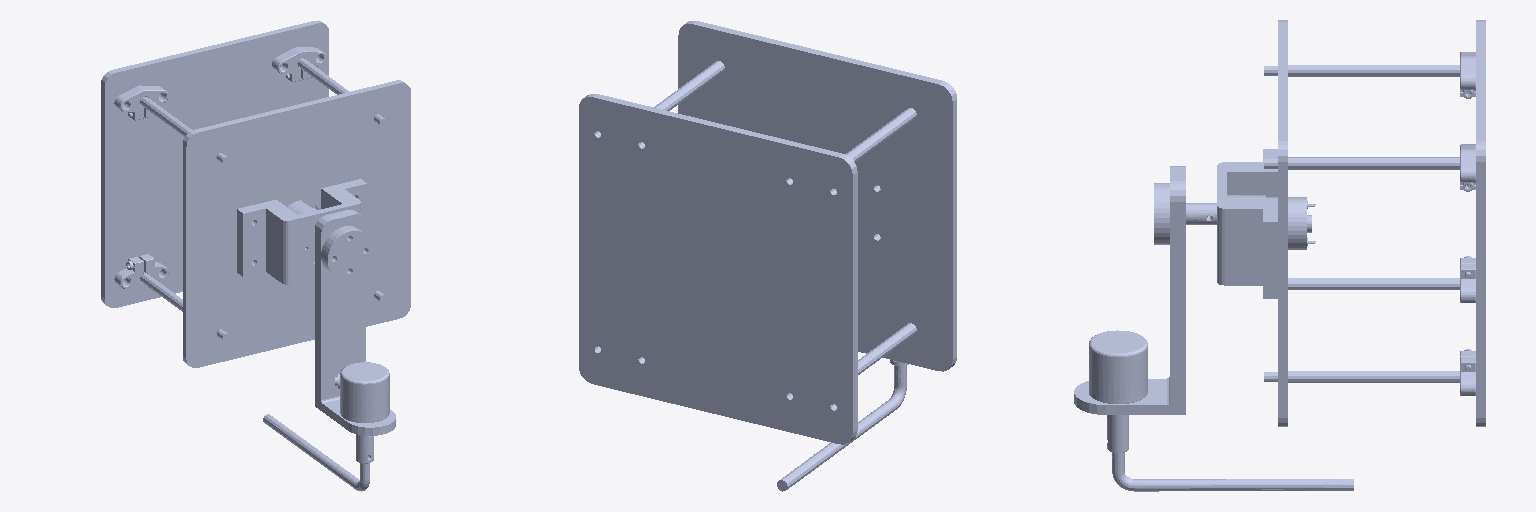
URDF robot description (rotary_pendulum_urdf):
<?xml version="1.0" encoding="utf-8"?>
<!-- This URDF was automatically created by SolidWorks to URDF Exporter! Originally created by Stephen Brawner (brawner@gmail.com) 
     Commit Version: 1.6.0-4-g7f85cfe  Build Version: 1.6.7995.38578
     For more information, please see http://wiki.ros.org/sw_urdf_exporter -->
<robot
  name="rotary_pendulum_urdf">
  <link
    name="base">
    <inertial>
      <origin
        xyz="0.099999 0.10003 0.081837"
        rpy="0 0 0" />
      <mass
        value="0.66722" />
      <inertia
        ixx="0.0016651"
        ixy="-2.4036E-10"
        ixz="5.3762E-09"
        iyy="0.0017362"
        iyz="-4.5105E-08"
        izz="0.0032867" />
    </inertial>
    <visual>
      <origin
        xyz="0 0 0"
        rpy="0 0 0" />
      <geometry>
        <mesh
          filename="package://rotary_pendulum_urdf/meshes/base.STL" />
      </geometry>
      <material
        name="">
        <color
          rgba="0.79216 0.81961 0.93333 1" />
      </material>
    </visual>
    <collision>
      <origin
        xyz="0 0 0"
        rpy="0 0 0" />
      <geometry>
        <mesh
          filename="package://rotary_pendulum_urdf/meshes/base.STL" />
      </geometry>
    </collision>
  </link>
  <link
    name="arm_link_1">
    <inertial>
      <origin
        xyz="-0.067733 0.026558 -0.031202"
        rpy="0 0 0" />
      <mass
        value="0.12703" />
      <inertia
        ixx="6.4611E-05"
        ixy="2.3084E-05"
        ixz="-6.4785E-05"
        iyy="0.00020041"
        iyz="1.0623E-05"
        izz="0.0001756" />
    </inertial>
    <visual>
      <origin
        xyz="0 0 0"
        rpy="0 0 0" />
      <geometry>
        <mesh
          filename="package://rotary_pendulum_urdf/meshes/arm_link_1.STL" />
      </geometry>
      <material
        name="">
        <color
          rgba="0.79216 0.81961 0.93333 1" />
      </material>
    </visual>
    <collision>
      <origin
        xyz="0 0 0"
        rpy="0 0 0" />
      <geometry>
        <mesh
          filename="package://rotary_pendulum_urdf/meshes/arm_link_1.STL" />
      </geometry>
    </collision>
  </link>
  <joint
    name="armm_joint_1"
    type="revolute">
    <origin
      xyz="0.1 -0.1859 0.107"
      rpy="0 -1.1389 3.1416" />
    <parent
      link="base" />
    <child
      link="arm_link_1" />
    <axis
      xyz="0 1 0" />
    <limit
      lower="-3.14"
      upper="3.14"
      effort="0.5"
      velocity="10" />
  </joint>
  <link
    name="pendulum_link_2">
    <inertial>
      <origin
        xyz="-0.050399 -5.9219E-06 0.042374"
        rpy="0 0 0" />
      <mass
        value="0.012679" />
      <inertia
        ixx="2.196E-05"
        ixy="-4.5223E-10"
        ixz="3.2939E-06"
        iyy="2.3265E-05"
        iyz="2.9366E-09"
        izz="1.4851E-06" />
    </inertial>
    <visual>
      <origin
        xyz="0 0 0"
        rpy="0 0 0" />
      <geometry>
        <mesh
          filename="package://rotary_pendulum_urdf/meshes/pendulum_link_2.STL" />
      </geometry>
      <material
        name="">
        <color
          rgba="0.79216 0.81961 0.93333 1" />
      </material>
    </visual>
    <collision>
      <origin
        xyz="0 0 0"
        rpy="0 0 0" />
      <geometry>
        <mesh
          filename="package://rotary_pendulum_urdf/meshes/pendulum_link_2.STL" />
      </geometry>
    </collision>
  </link>
  <joint
    name="pendulum_joint_2"
    type="revolute">
    <origin
      xyz="-0.1163 0.048 -0.053513"
      rpy="1.5517 -0.43086 0.049838" />
    <parent
      link="arm_link_1" />
    <child
      link="pendulum_link_2" />
    <axis
      xyz="0.99898 0 0.045265" />
    <limit
      lower="-3.14"
      upper="3.14"
      effort="0"
      velocity="20" />
  </joint>
</robot>

--- What the picture shows (computed from the rendered views, not written in the file) ---
The picture shows the robot from 3 angles, left to right: view 1: azimuth 30°, elevation 25°; view 2: azimuth 150°, elevation 25°; view 3: azimuth 270°, elevation 25°; orthographic projection.
Robot: rotary_pendulum_urdf — 3 links, 2 joints (2 revolute); root link base; default pose: all joints at 0.
Visible links, largest first — view 1: base, arm_link_1, pendulum_link_2; view 2: base, pendulum_link_2; view 3: base, arm_link_1, pendulum_link_2.
Link boxes in pixels (left/top/right/bottom): base: left=101, top=20, right=410, bottom=367; arm_link_1: left=315, top=210, right=395, bottom=435; pendulum_link_2: left=263, top=414, right=373, bottom=491; base: left=579, top=21, right=956, bottom=444; pendulum_link_2: left=777, top=360, right=908, bottom=491; base: left=1186, top=20, right=1485, bottom=426; arm_link_1: left=1074, top=166, right=1185, bottom=414; pendulum_link_2: left=1107, top=415, right=1353, bottom=491.
Bounding box of the posed robot: 0.2 × 0.2618 × 0.2877 m (x, y, z).
Meshes: 3 distinct files referenced, 3 mesh visuals loaded (3 binary STL).
